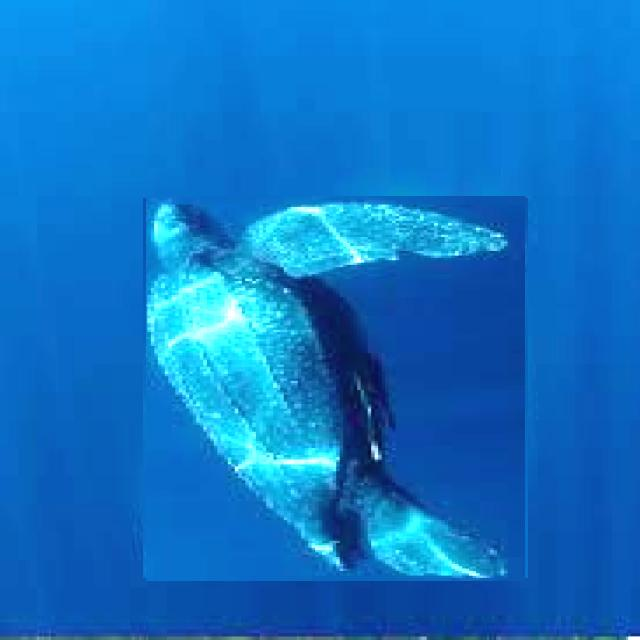Sea turtle: (144, 197, 527, 580)
